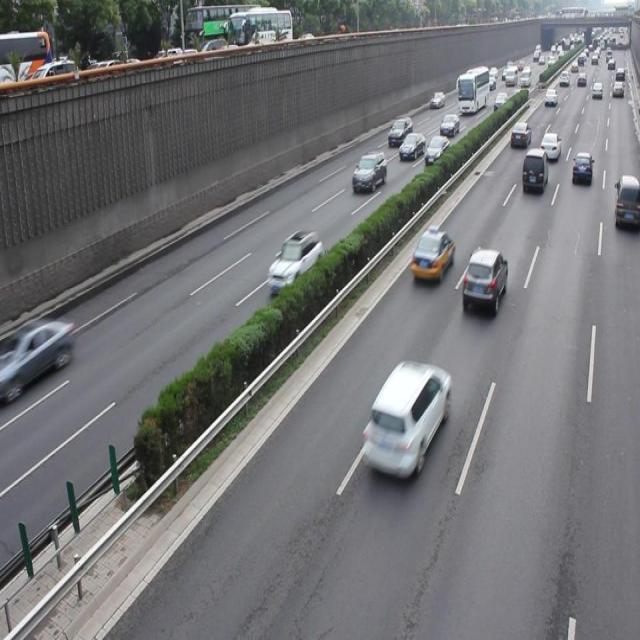car: (361, 359, 450, 479), (11, 317, 74, 391), (267, 228, 322, 293), (461, 247, 506, 315), (410, 225, 453, 282), (612, 173, 640, 229), (352, 149, 386, 192), (424, 134, 449, 167), (570, 149, 591, 185)
truck: (520, 148, 547, 194)
